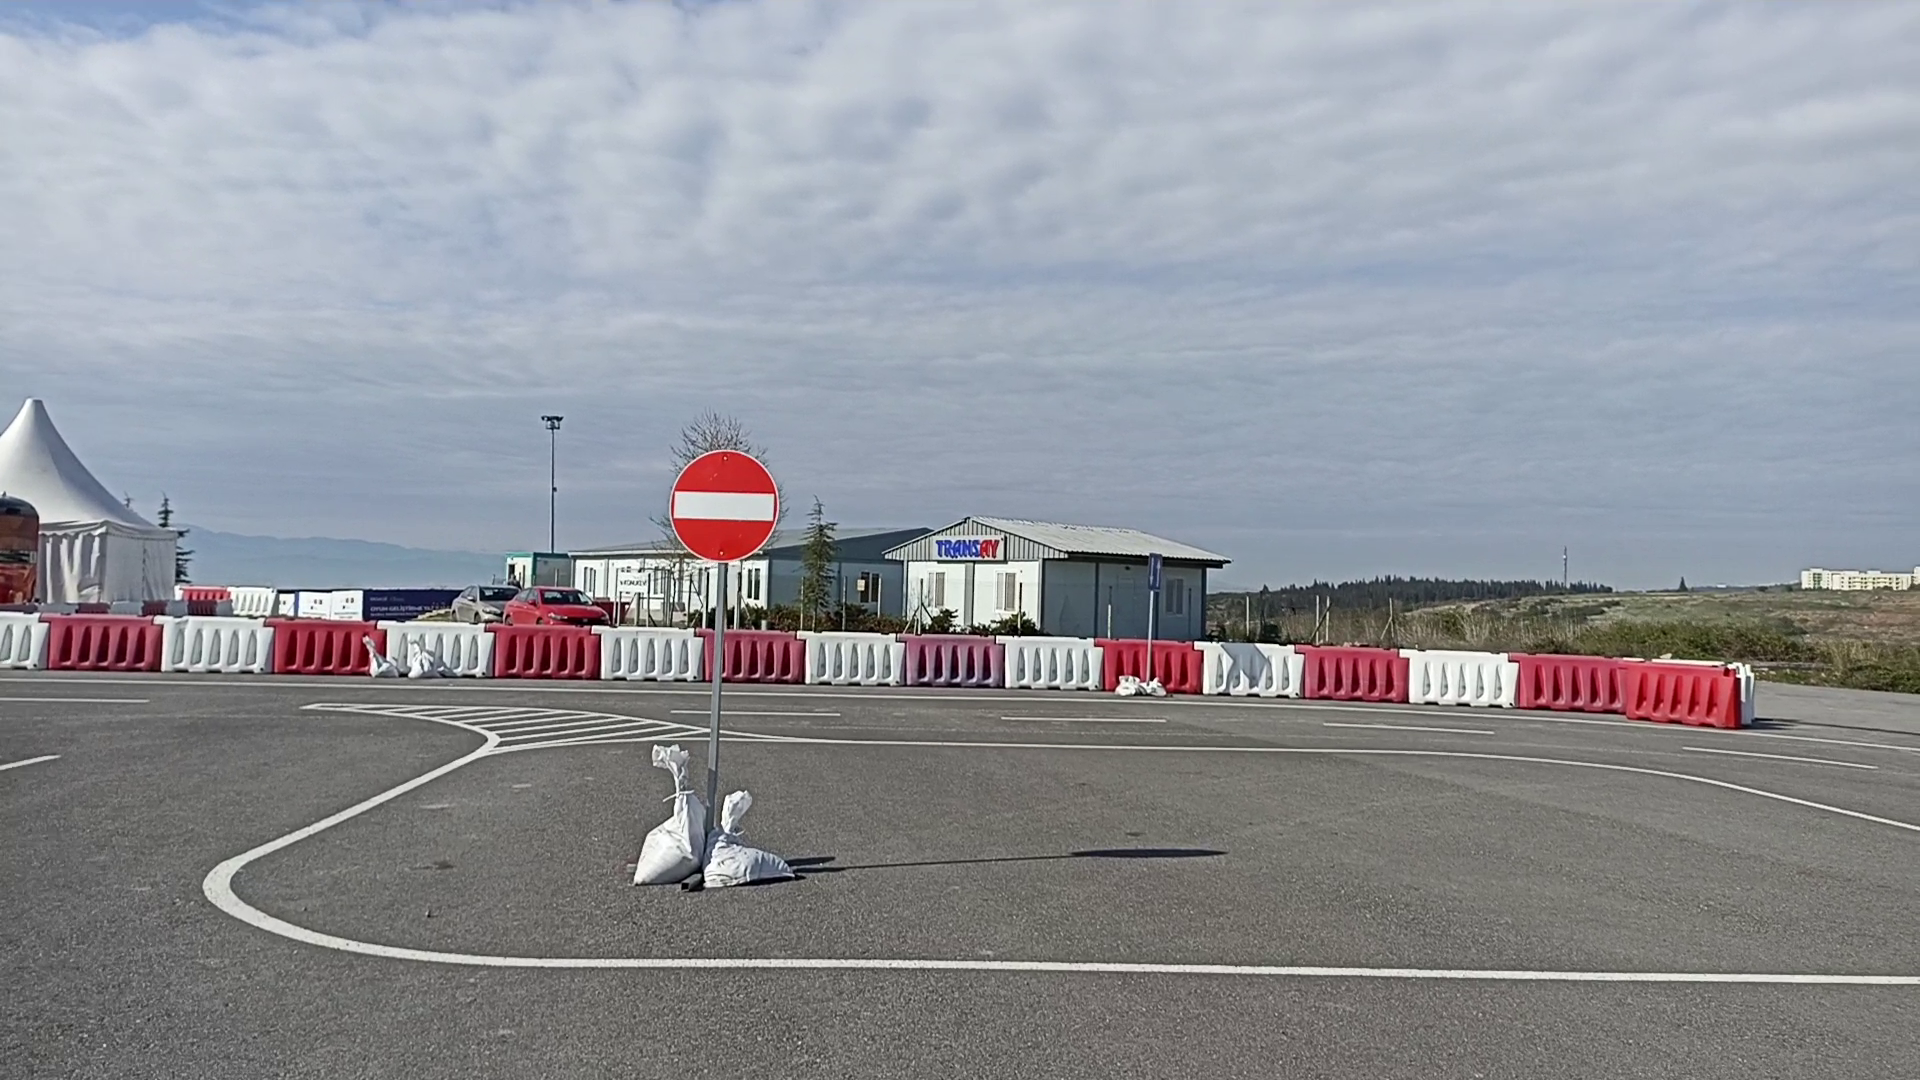noentryway: (665, 444, 786, 563)
